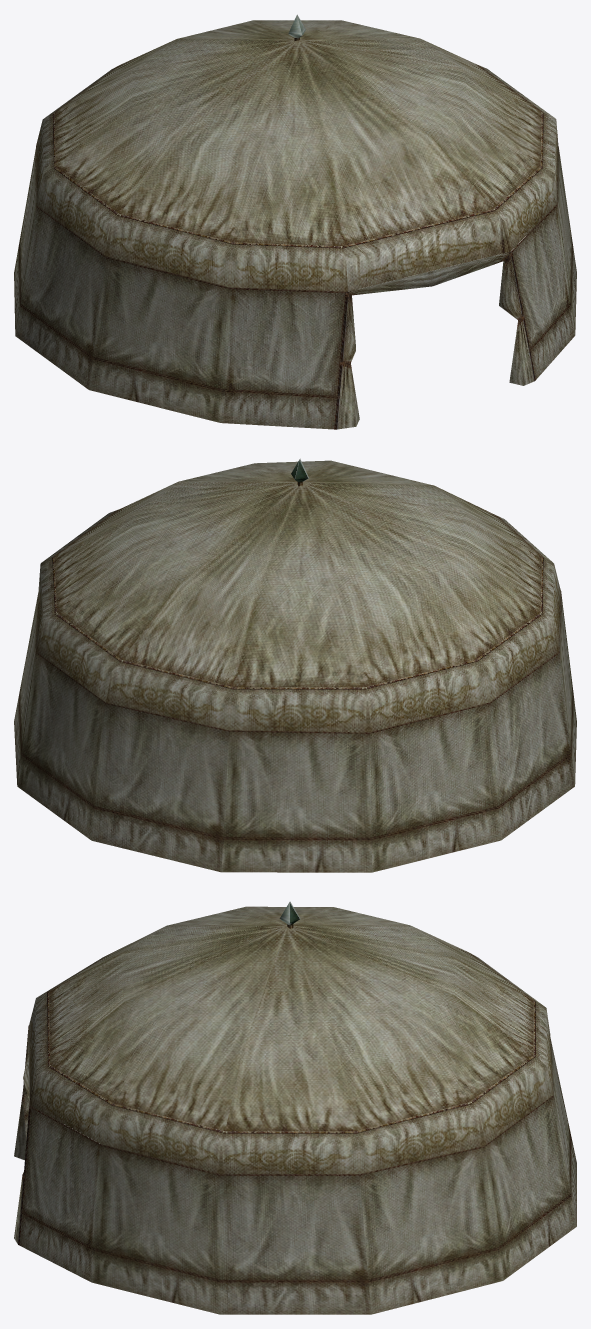
File: general_obj_tent01.fbx
The picture shows the model from 3 angles, top to bottom: view 1: azimuth 30°, elevation 25°; view 2: azimuth 150°, elevation 25°; view 3: azimuth 270°, elevation 25°; orthographic projection.
Parts seen in each view (by area): view 1: Mesh02; view 2: Mesh02; view 3: Mesh02.
Part boxes in pixels (box(x1,y1,x2,y2)): Mesh02: box(14, 14, 576, 429); Mesh02: box(14, 458, 576, 872); Mesh02: box(14, 901, 576, 1314).
Size of the model in its own units: 11.36 by 6.53 by 11.34.
